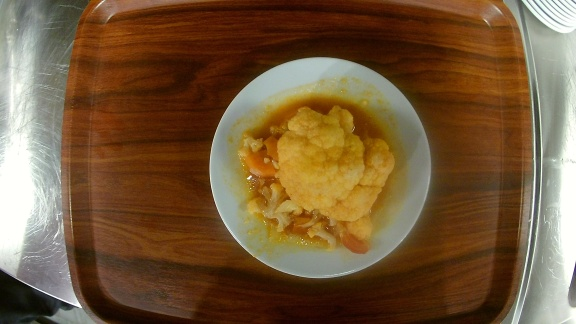karnibahar: (206, 57, 433, 278)
